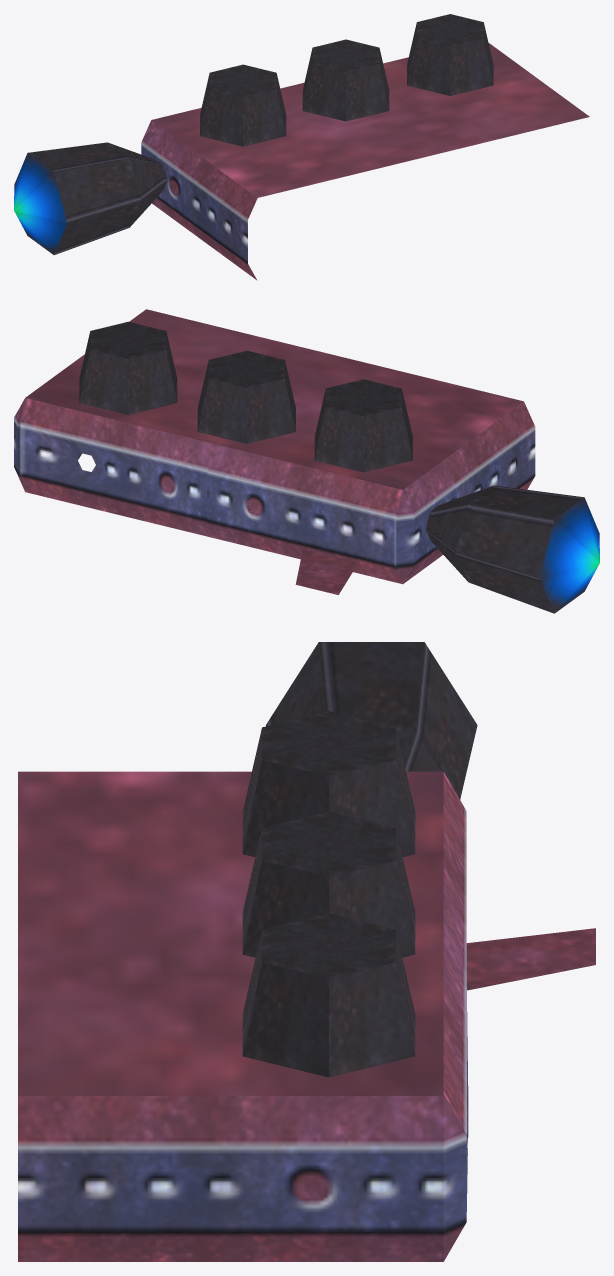
The model's file is YokianF.glb.
3 views of the same model, one above another, from view 1: azimuth 30°, elevation 25°; view 2: azimuth 150°, elevation 25°; view 3: azimuth 270°, elevation 25° (orthographic). The views are drawn at different scales.
Visible parts, largest first — view 1: YokianF; view 2: YokianF; view 3: YokianF.
Boxes of the visible parts, x1,y1,x2,y2 form: YokianF: [14, 14, 589, 280]; YokianF: [14, 309, 599, 613]; YokianF: [18, 642, 595, 1261].
Size of the model in its own units: 18272 by 4529 by 9196.
Materials: 1 (1 with a texture image).
